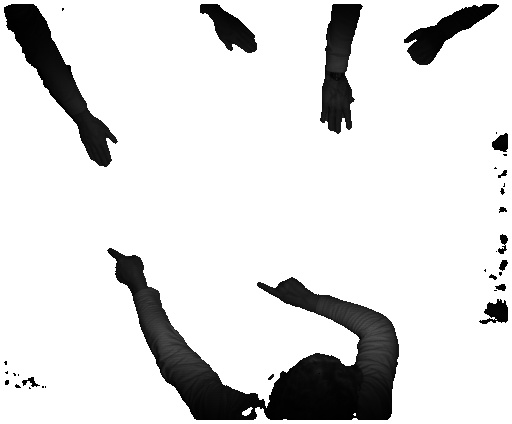hand: (256, 272, 310, 311), (320, 82, 359, 135), (214, 15, 263, 55), (400, 28, 443, 71), (79, 122, 119, 167), (104, 248, 145, 289)
